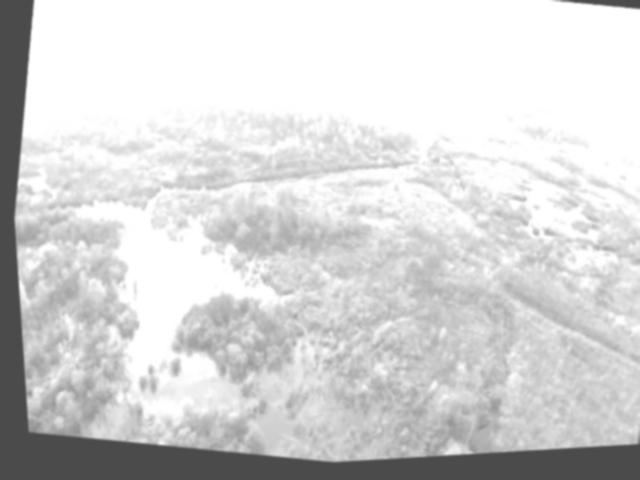hedef: (330, 80, 503, 191)
